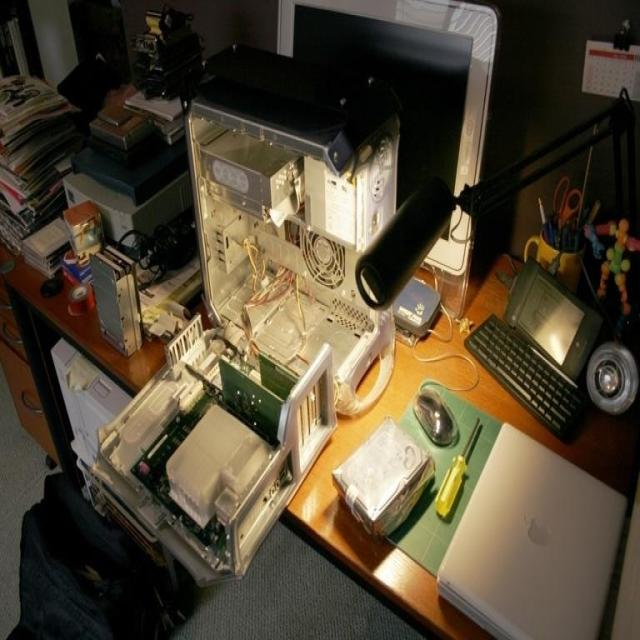E-waste: (88, 2, 640, 639)
